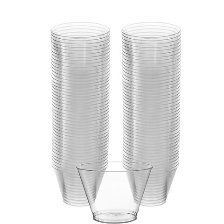glass: (44, 13, 113, 206), (119, 16, 183, 207), (73, 156, 159, 224)
